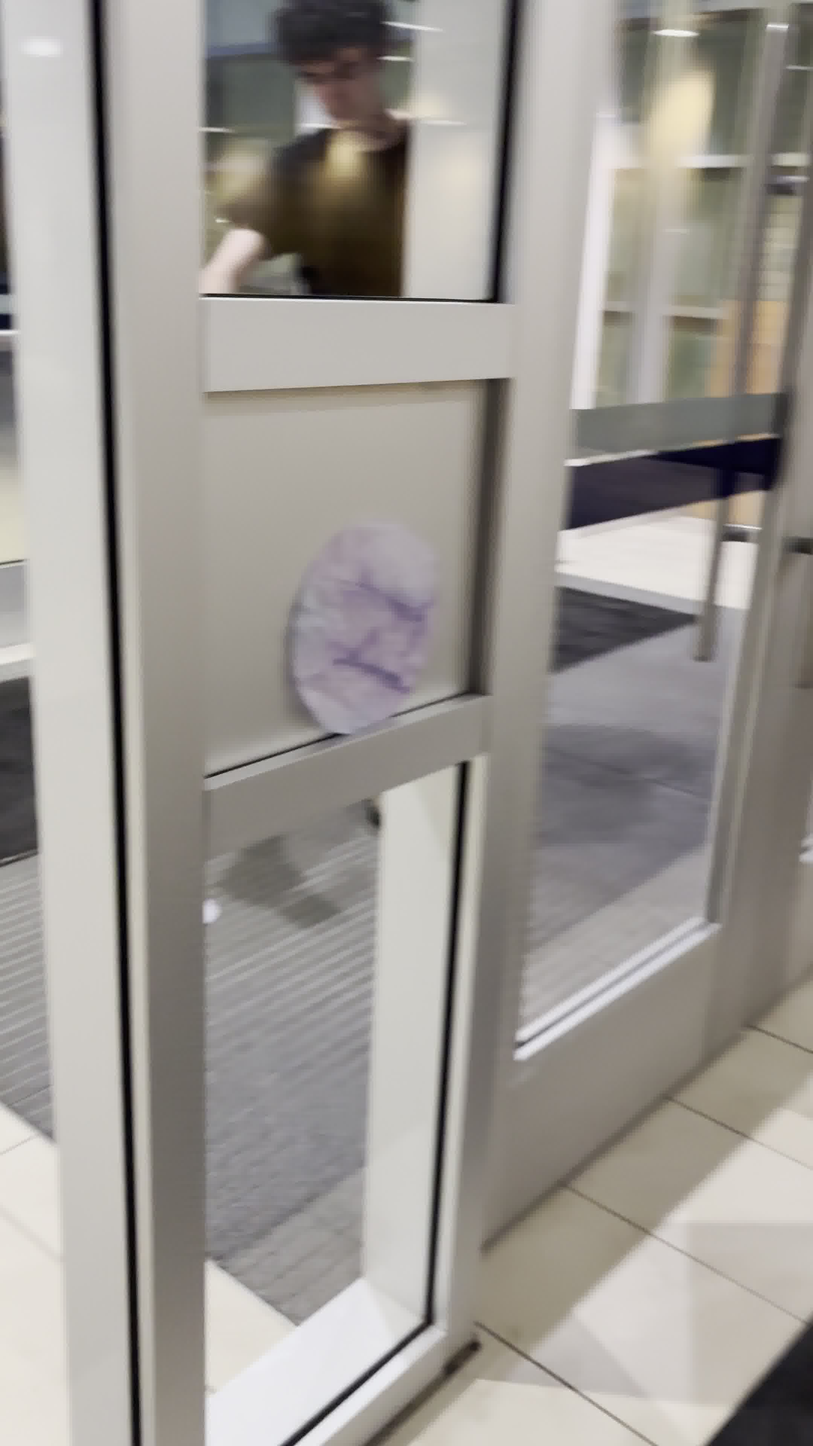Target: (283, 517, 445, 738)
